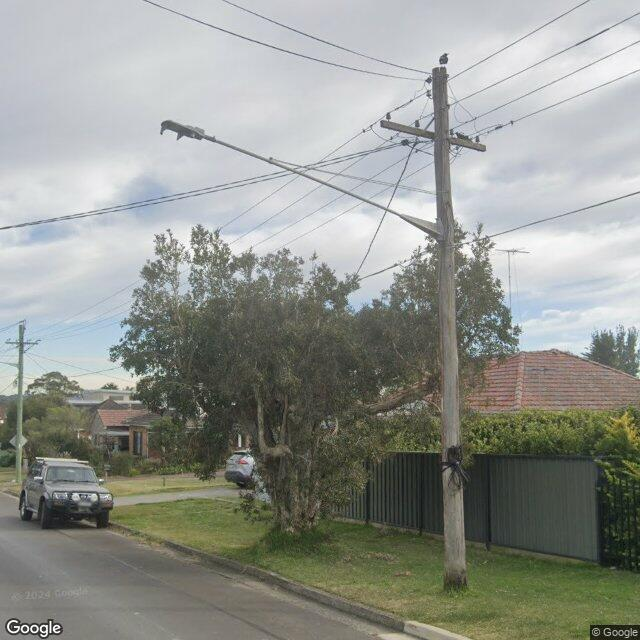crossarm: (380, 120, 488, 152), (5, 341, 39, 345)
streetlight: (159, 120, 444, 242)
timber-pole: (431, 67, 468, 593), (15, 324, 25, 484)
